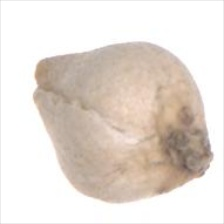L3: (31, 58, 47, 106)
L4: (33, 41, 213, 202)
